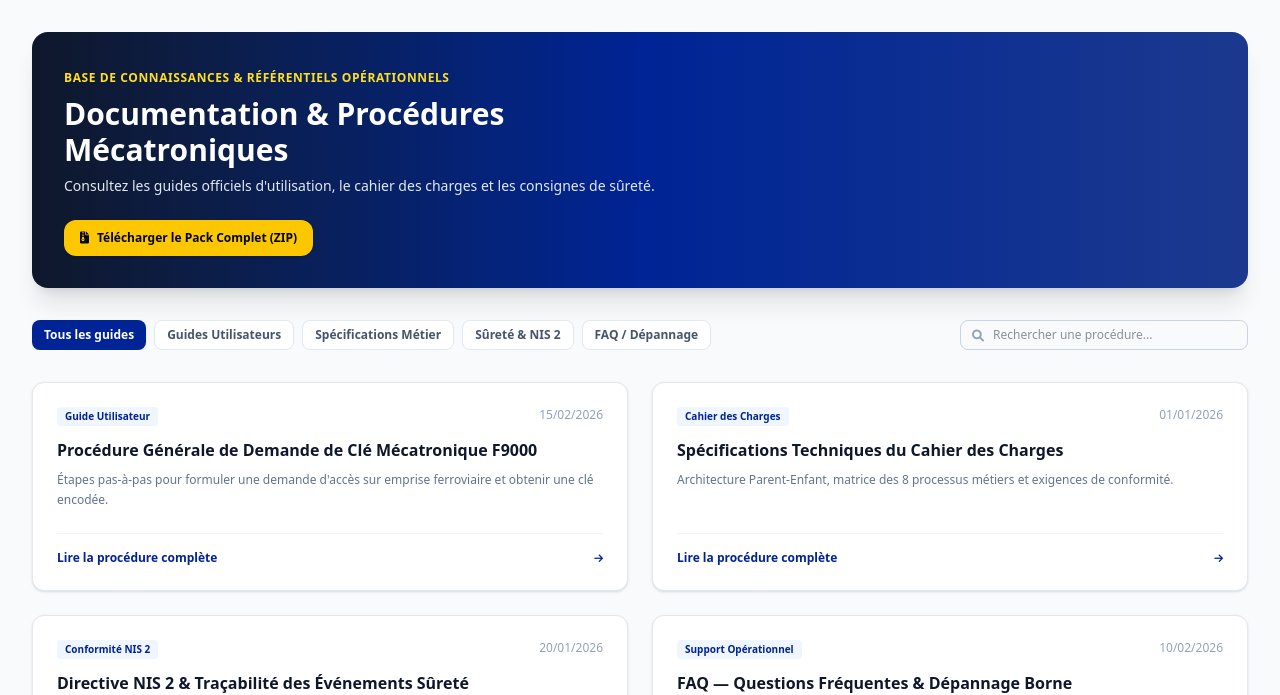
Test: User Story 4.4: Documentation Knowledge Base Component › opens and closes article reader view on click
Step 1. Click the text "Lire la procédure complète" below "Guide Utilisateur" → point(137, 558), box x1=57 y1=550 x2=217 y2=566
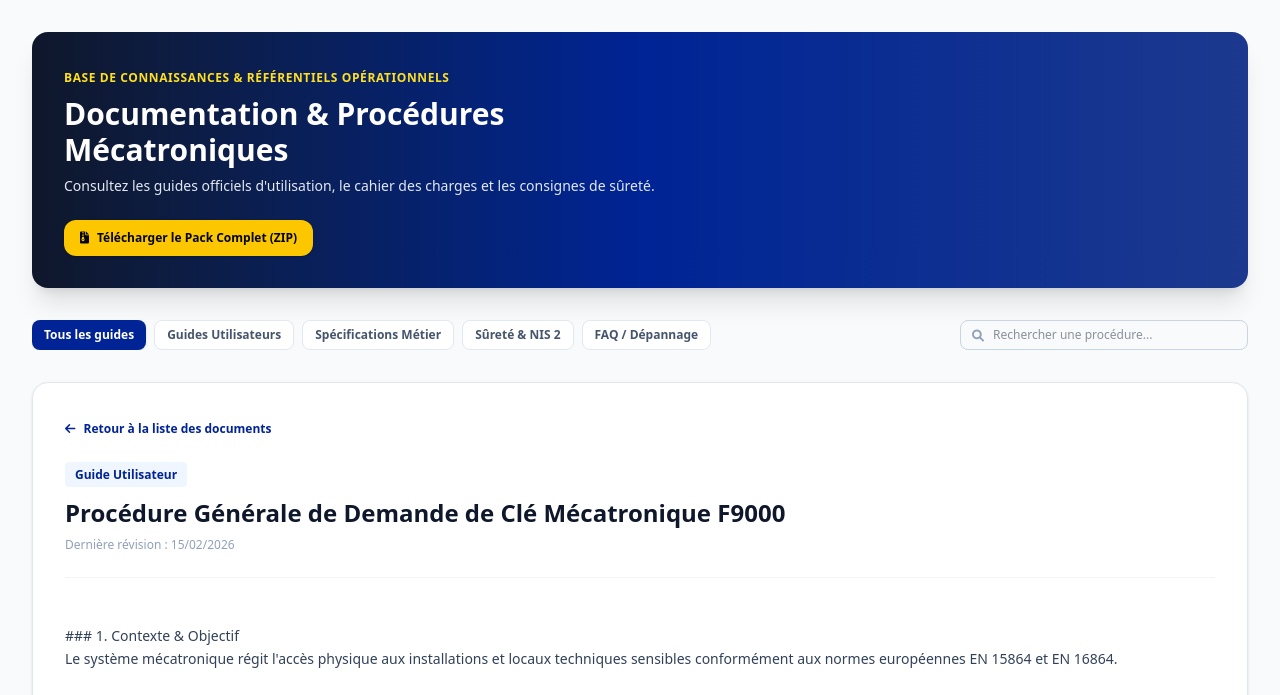
Expected: the text "Retour à la liste des documents" is shown, x1=84 y1=421 x2=272 y2=437
Step 2. Click the button "Retour à la liste des documents" → point(168, 429), box x1=65 y1=421 x2=272 y2=437
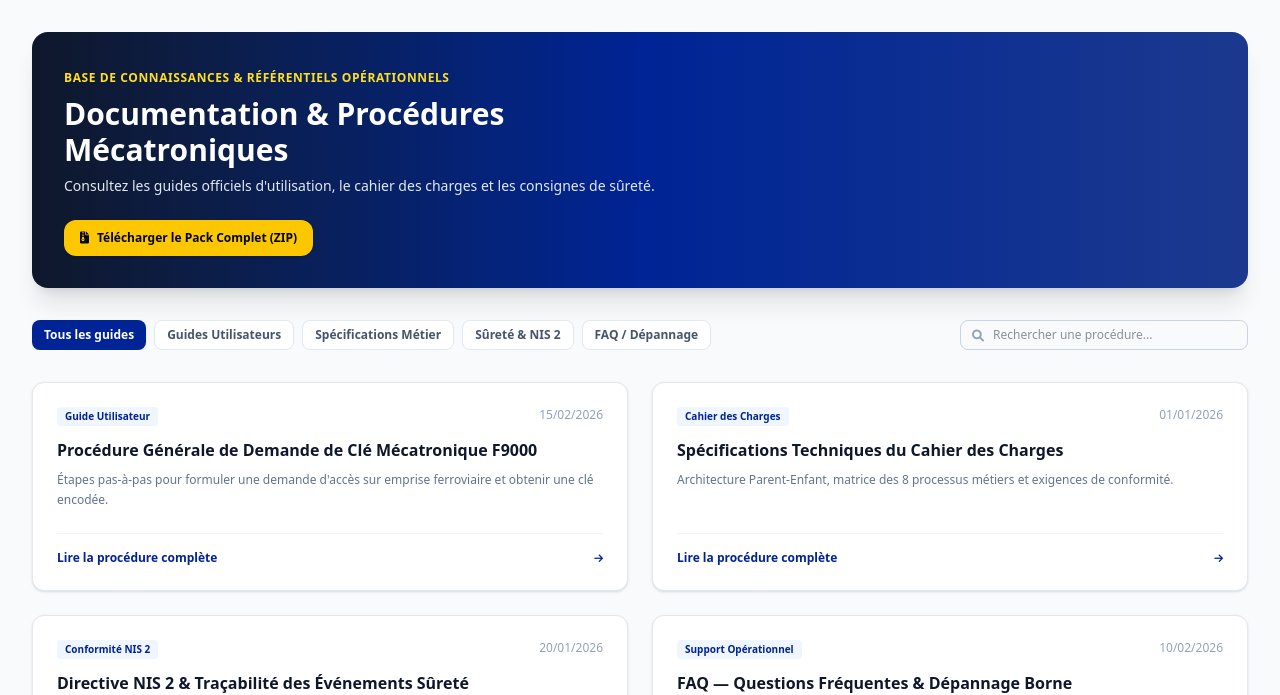
Expected: the button "Retour à la liste des documents" is gone
